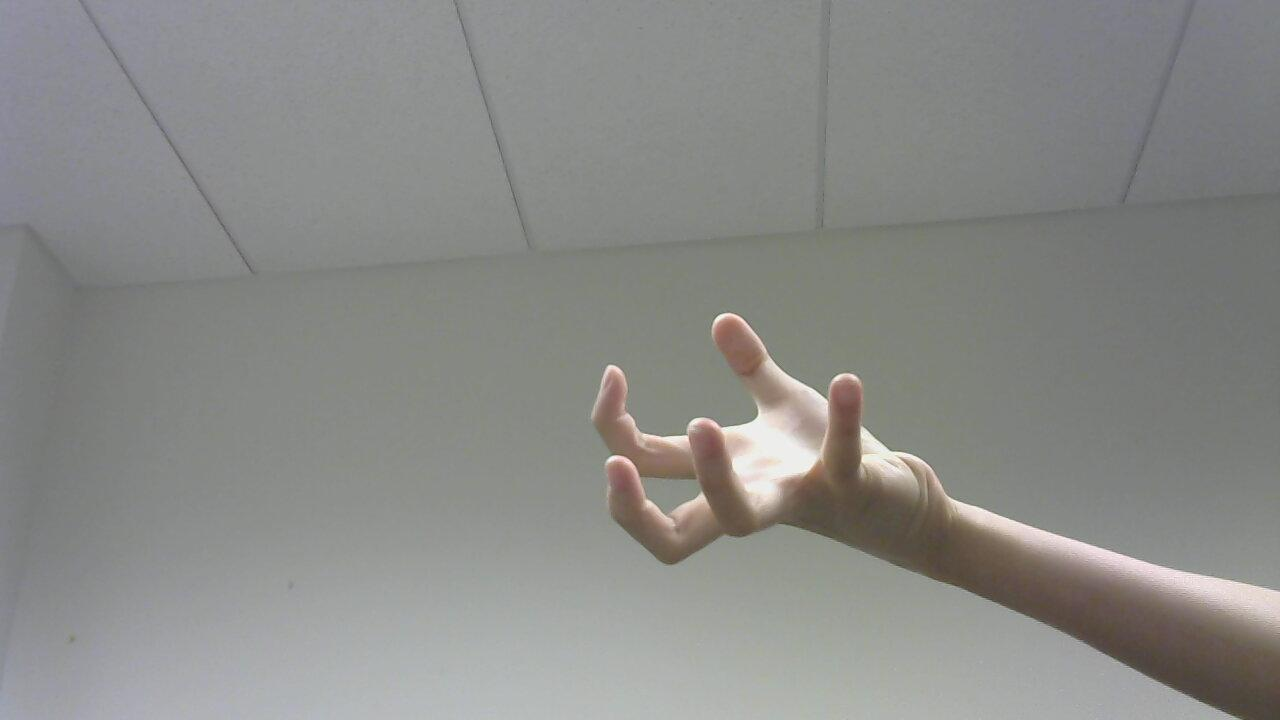hands: (583, 297, 943, 588)
